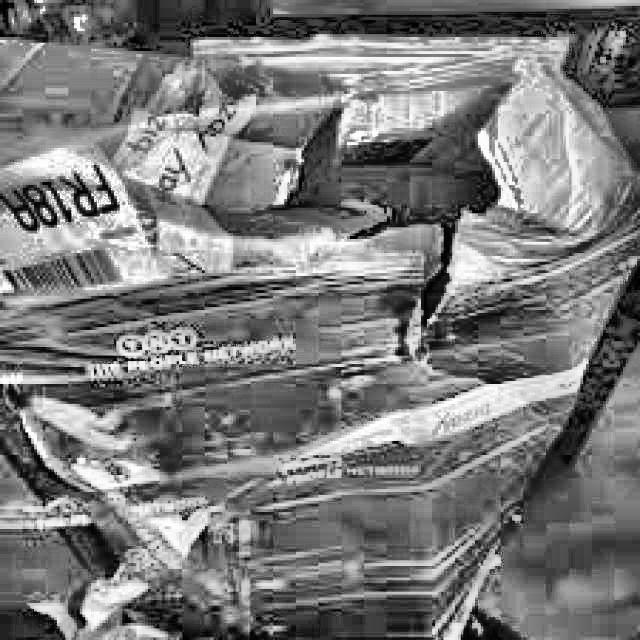box: (3, 32, 639, 639)
hole: (258, 85, 532, 303)
